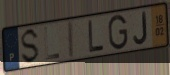G: (107, 14, 129, 52)
I: (67, 19, 76, 61)
J: (132, 10, 149, 46)
L: (43, 26, 61, 62), (87, 19, 105, 55)
S: (19, 27, 40, 66)
